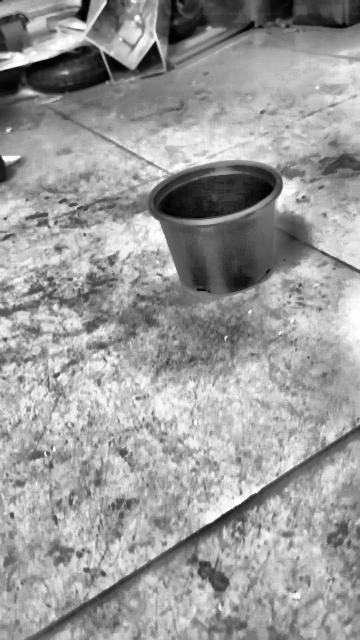pot: (147, 161, 281, 294)
